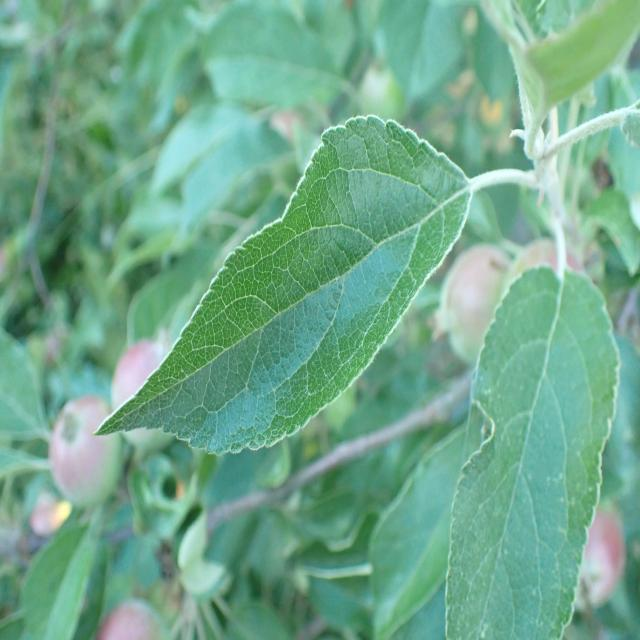healthy: (94, 114, 472, 456), (444, 264, 621, 639)
